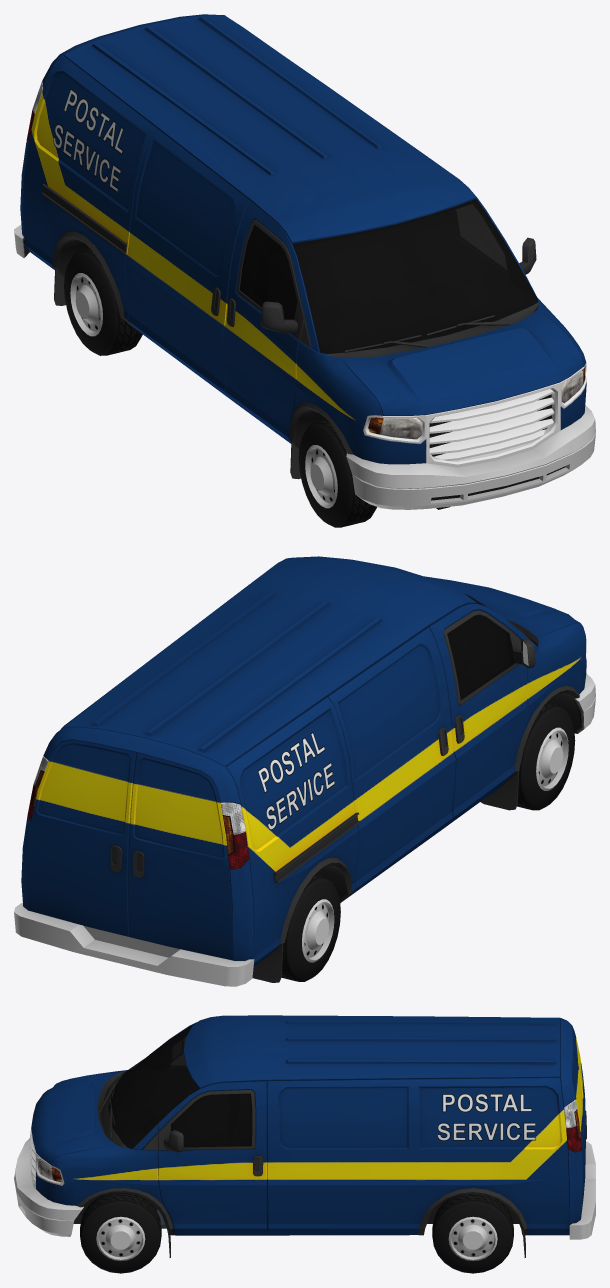
File: postvan.glb
3 views of the same model, one above another, from view 1: azimuth 30°, elevation 25°; view 2: azimuth 150°, elevation 25°; view 3: azimuth 270°, elevation 25° (orthographic). The views are drawn at different scales.
Visible parts, largest first — view 1: Body (×3), Door skin and glass (×4), TyreRim (×2), Lamp head; view 2: Body (×2), Door skin and glass (×2), TyreRim (×2), Lamp brake; view 3: Body (×3), Door skin and glass (×3), TyreRim (×2), Lamp brake.
Boxes of the visible parts, x1,y1,x2,y2 form: Body (×3): [14, 14, 595, 509]; Door skin and glass (×4): [230, 197, 536, 444]; TyreRim (×2): [64, 248, 376, 527]; Lamp head: [368, 367, 585, 439]; Body (×2): [14, 556, 595, 986]; Door skin and glass (×2): [436, 602, 540, 814]; TyreRim (×2): [281, 702, 575, 981]; Lamp brake: [27, 756, 249, 870]; Body (×3): [14, 1015, 595, 1257]; Door skin and glass (×3): [142, 1028, 255, 1232]; TyreRim (×2): [80, 1192, 513, 1273]; Lamp brake: [564, 1100, 581, 1152].
Size of the model in its own units: 2.09 by 1.89 by 5.1.
Materials: 6 (5 with a texture image).
